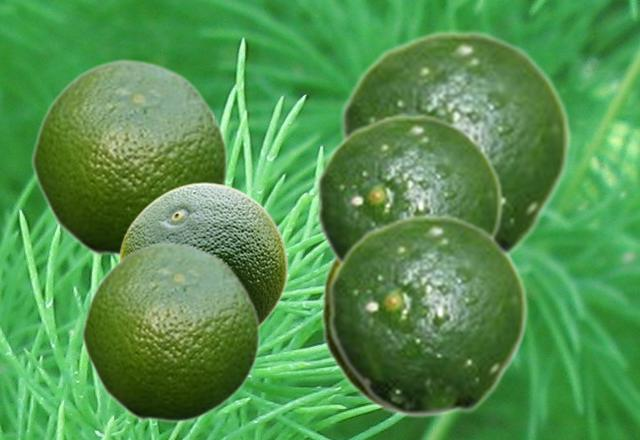calamansi: (339, 29, 571, 256), (327, 213, 528, 417), (30, 57, 228, 257), (319, 254, 524, 416), (80, 240, 260, 422), (315, 113, 503, 263), (118, 182, 287, 326)
